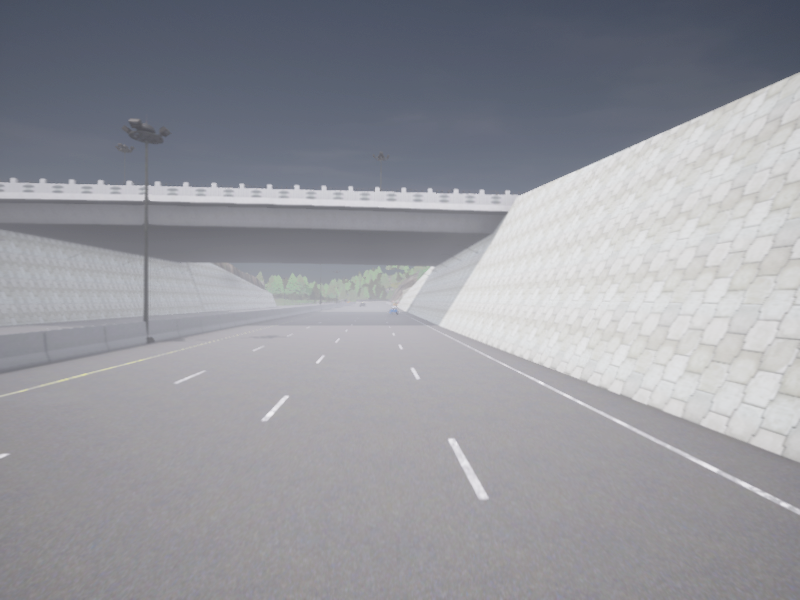vehicle: (389, 306, 397, 314), (360, 302, 365, 306)
